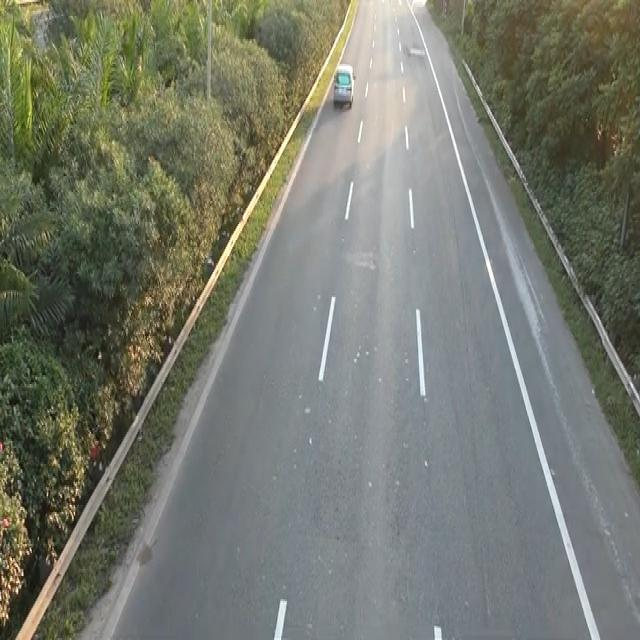lorry: (331, 61, 356, 110)
